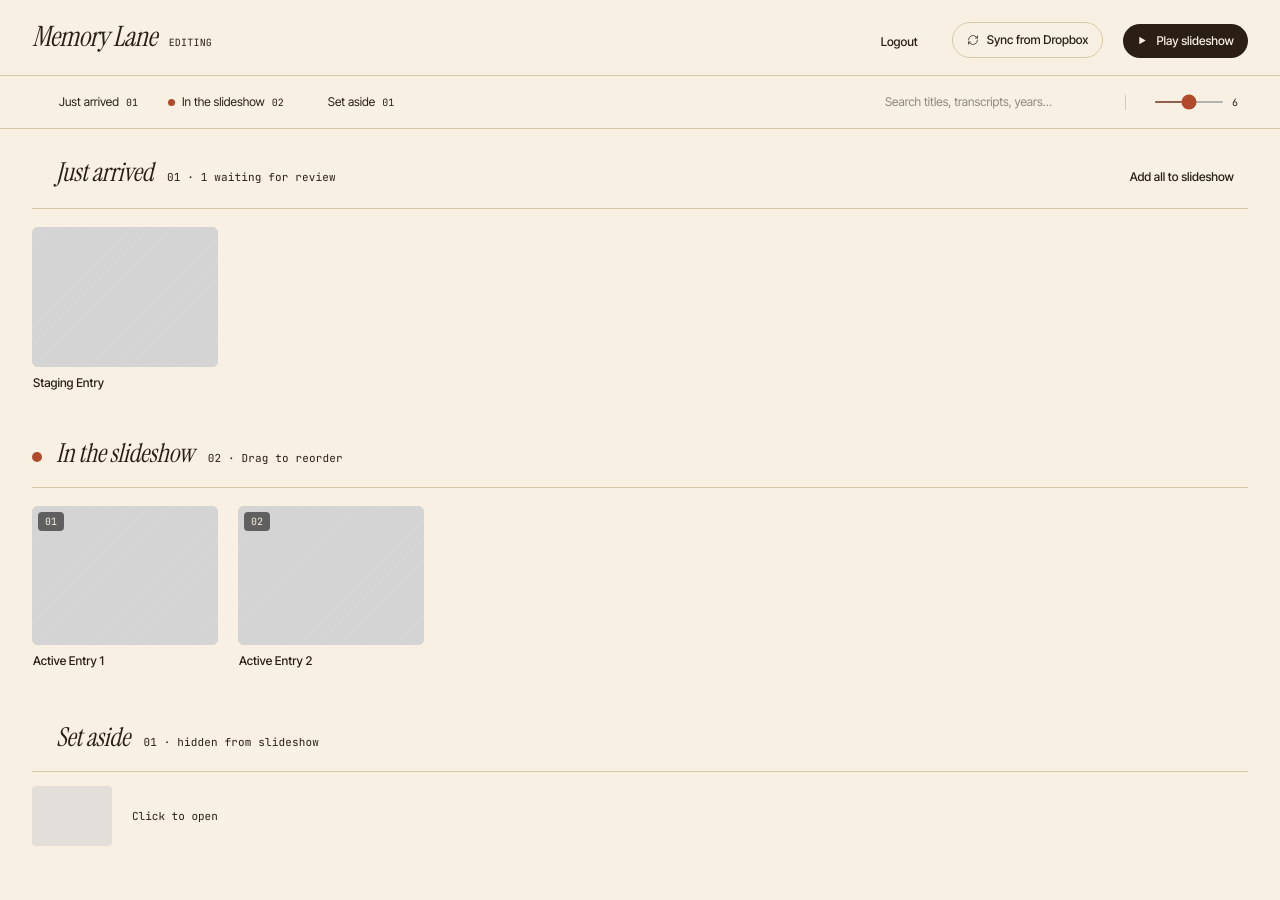
Test: EntryGrid › Multi-select › selecting two entries shows "2 selected"
Hover over the text "Active Entry 1" at (125, 588), box x1=32 y1=506 x2=218 y2=670
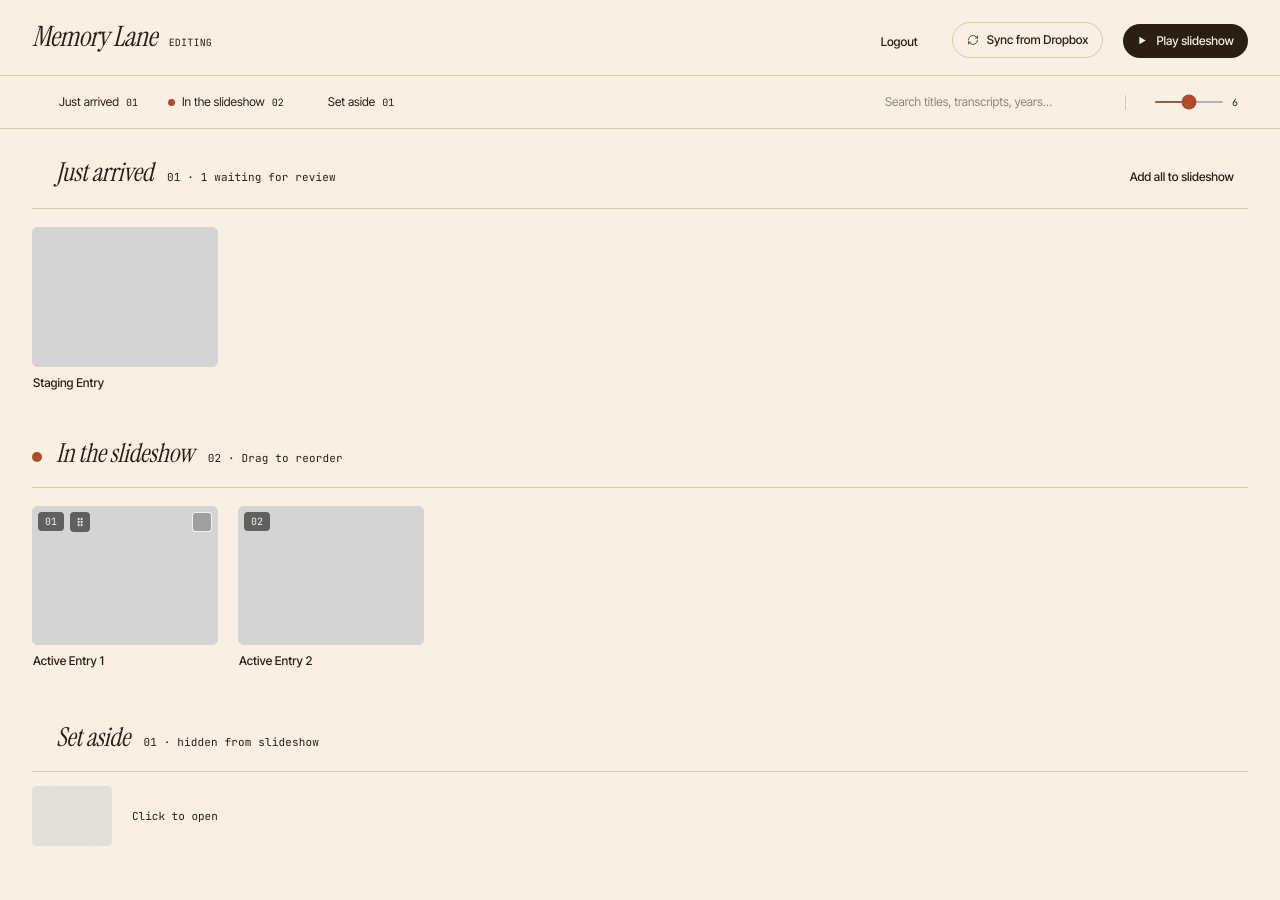
Click the element with test id "thumb-check" at (202, 522), box x1=192 y1=512 x2=212 y2=532
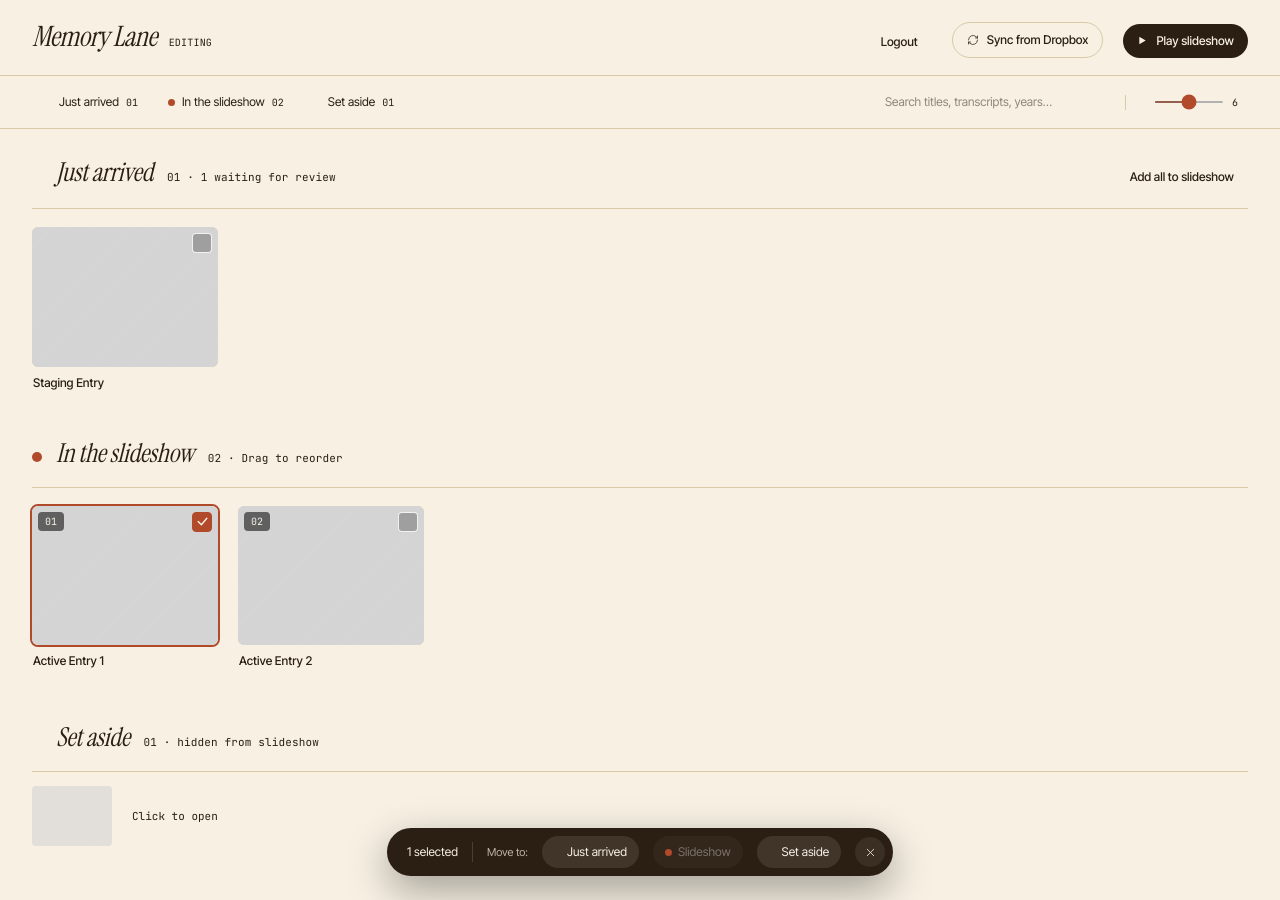
Click the 3rd element with test id "thumb-check" at (408, 522), box x1=398 y1=512 x2=418 y2=532
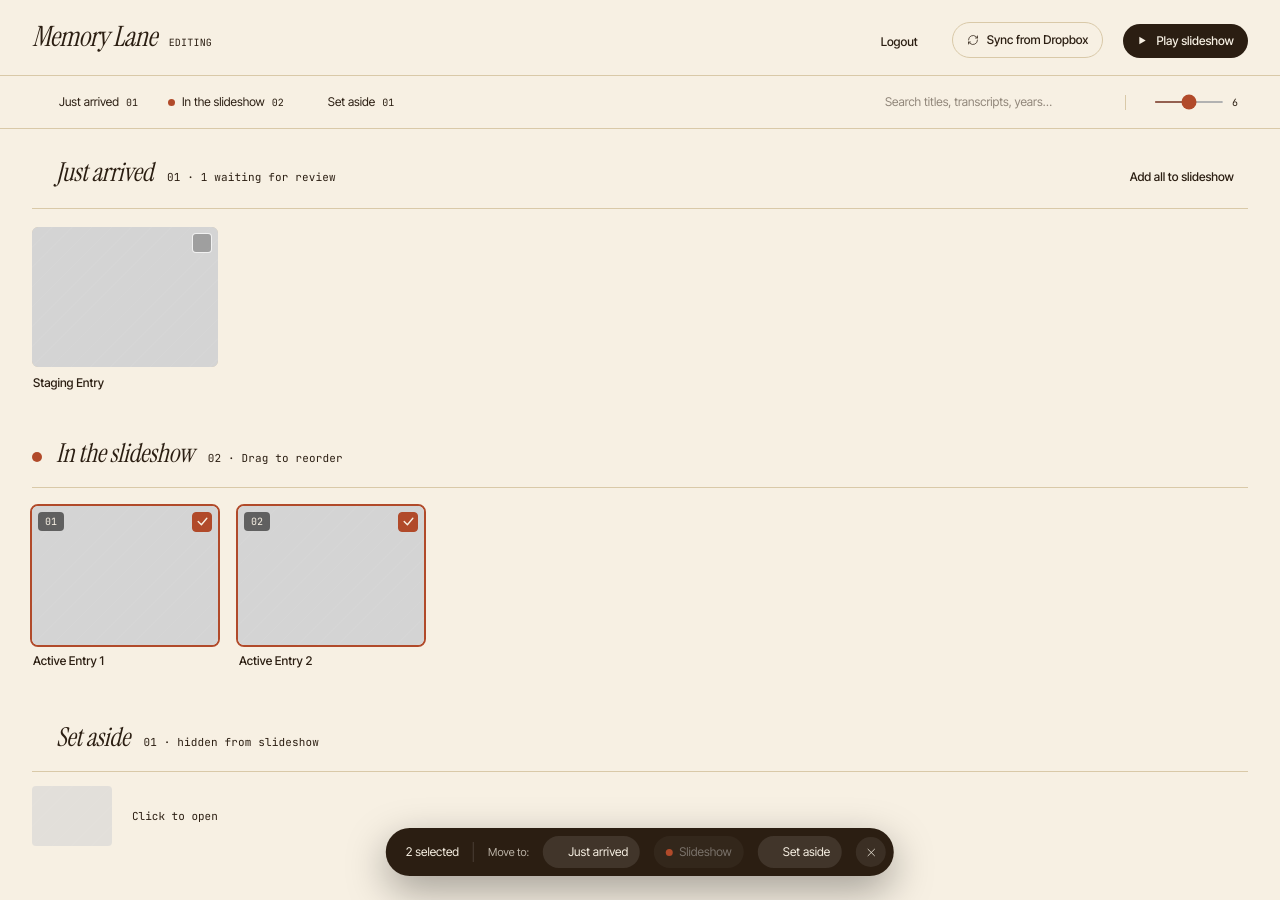
Now the text "2 selected" is shown, box x1=406 y1=843 x2=459 y2=861
